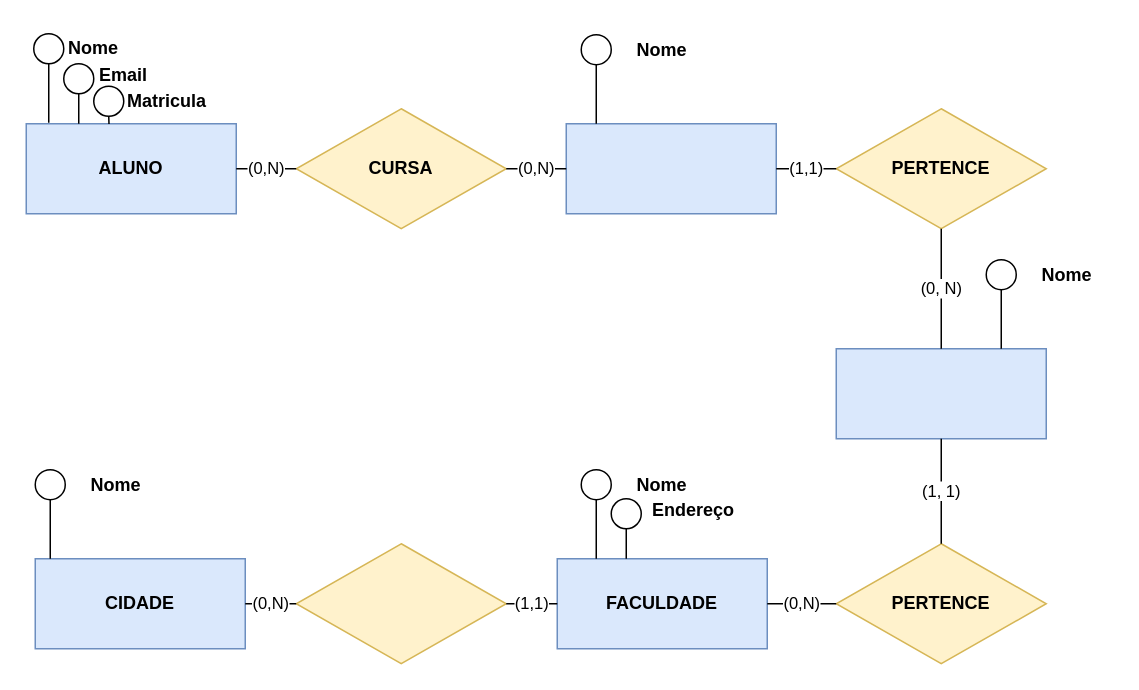
The diagram is 1139 pixels wide and 690 high, and some of its shapes have lost their labels. Here are the shapes that lost their labels. From the top down, the centre of each, then its label:
At (x=670, y=168): "DISCIPLINA".
At (x=940, y=393): "DEPARTAMENTO".
At (x=400, y=603): "LOCALIZA-SE".
